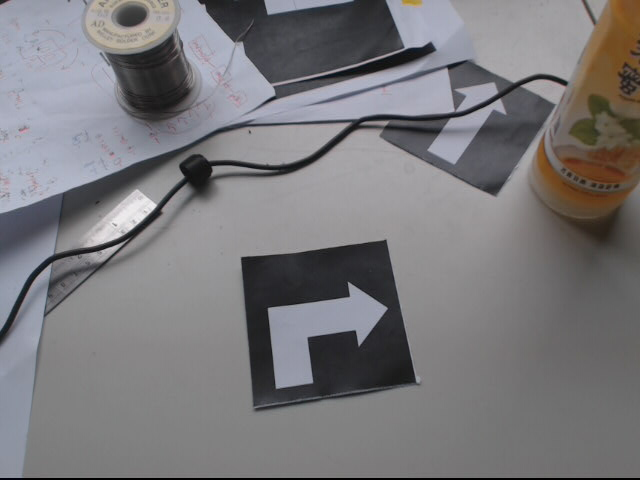right: (242, 238, 419, 408)
